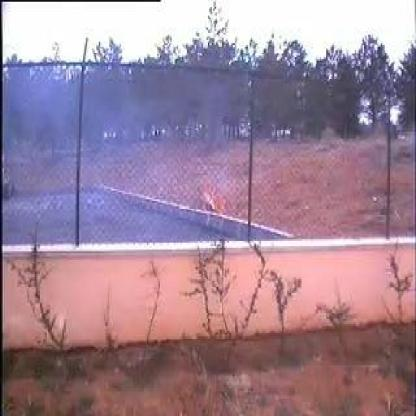-: (49, 62, 228, 236)
